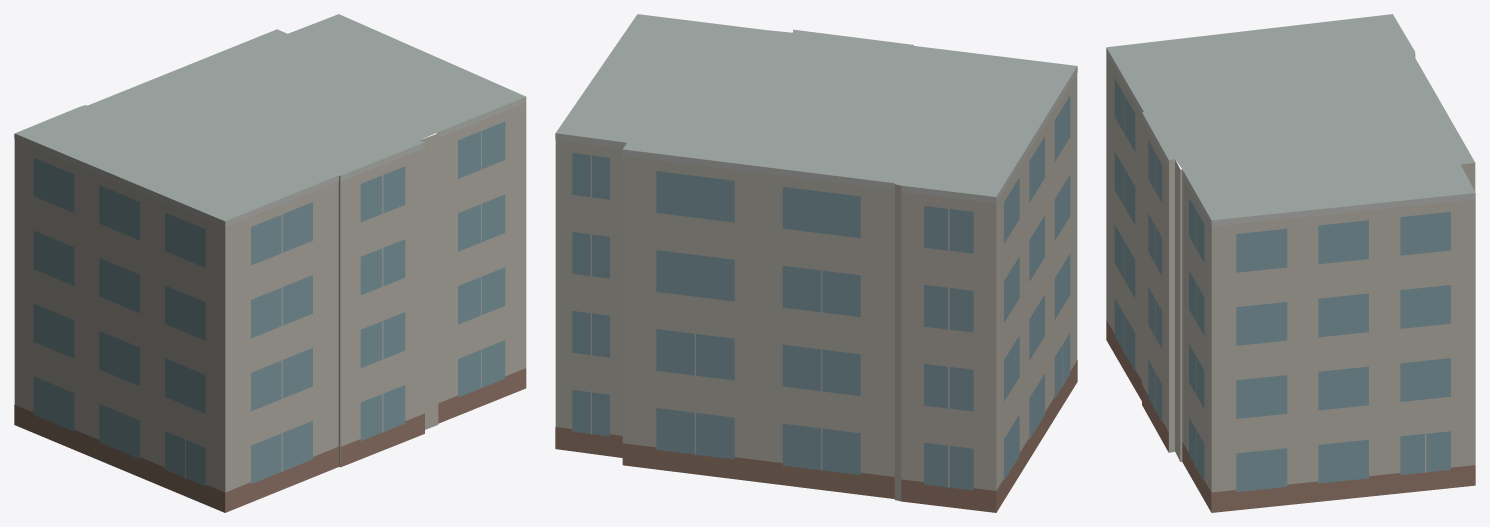
The model's file is survey-upis-32835957.glb.
3 renders of one model, left to right at view 1: azimuth 30°, elevation 25°; view 2: azimuth 150°, elevation 25°; view 3: azimuth 270°, elevation 25°, orthographic. The views are drawn at different scales.
Parts seen in each view (by area): view 1: survey-upis-32835957.tmp; view 2: survey-upis-32835957.tmp; view 3: survey-upis-32835957.tmp.
Part boxes in pixels (bbox=[...]): survey-upis-32835957.tmp: bbox=[14, 14, 526, 512]; survey-upis-32835957.tmp: bbox=[555, 14, 1077, 512]; survey-upis-32835957.tmp: bbox=[1106, 14, 1475, 512].
Size of the model in its own units: 18.02 by 11.9 by 13.63.
